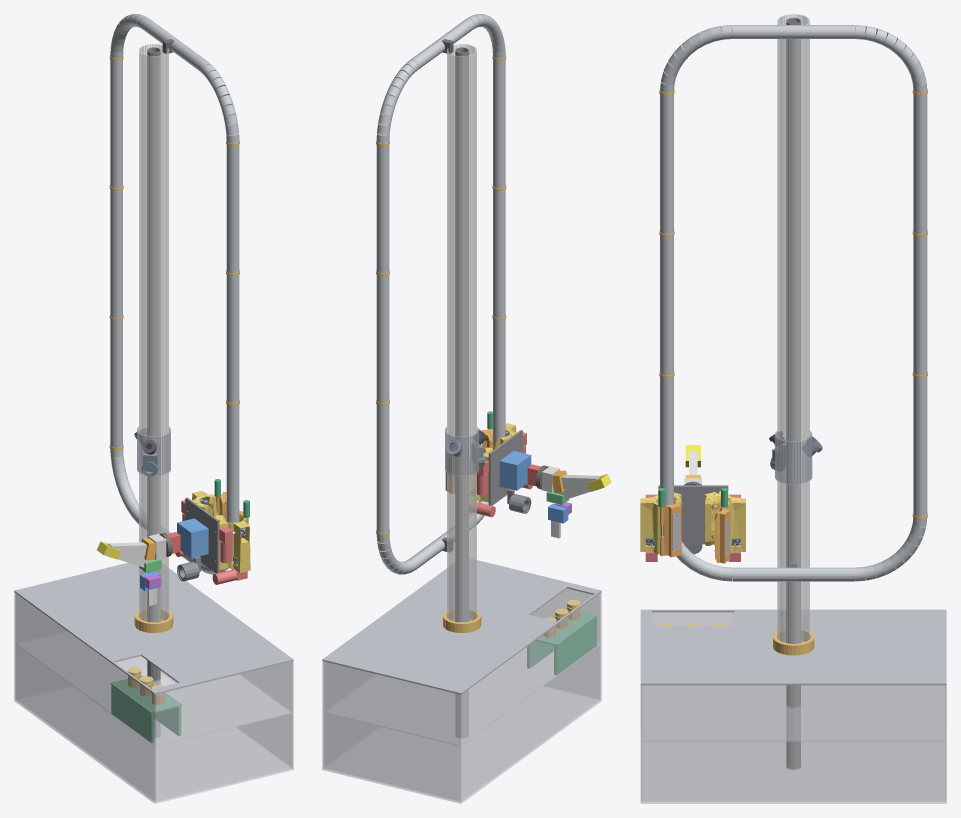
Rendered from sim-transplant-v1.glb.
3 renders of one model, left to right at view 1: azimuth 30°, elevation 25°; view 2: azimuth 150°, elevation 25°; view 3: azimuth 270°, elevation 25°, orthographic. The views are drawn at different scales.
Parts seen in each view (by area): view 1: 0, 1, 8, 5, 6, 2, 15, 31, 34, 32, 4, 16 (+1 smaller); view 2: 0, 1, 8, 5, 6, 2, 9, 31, 34, 32, 4, 16 (+1 smaller); view 3: 0, 1, 5, 8, 6, 15, 9, 18, 31, 4.
Part boxes in pixels (<box>): 0: <box>14,592,293,803</box>; 1: <box>14,562,293,694</box>; 8: <box>139,44,168,622</box>; 5: <box>110,14,239,574</box>; 6: <box>147,47,160,737</box>; 2: <box>110,675,181,742</box>; 15: <box>192,491,250,572</box>; 31: <box>185,497,219,573</box>; 34: <box>108,533,166,604</box>; 32: <box>177,518,208,558</box>; 4: <box>109,55,239,632</box>; 16: <box>175,500,247,584</box>; 0: <box>322,588,601,803</box>; 1: <box>322,558,601,694</box>; 8: <box>447,44,476,622</box>; 5: <box>376,14,505,574</box>; 6: <box>455,47,468,737</box>; 2: <box>527,607,597,675</box>; 9: <box>445,427,479,476</box>; 31: <box>488,430,522,505</box>; 34: <box>541,466,600,537</box>; 32: <box>499,451,531,490</box>; 4: <box>376,55,506,632</box>; 16: <box>469,432,532,517</box>; 0: <box>640,612,946,803</box>; 1: <box>640,609,946,685</box>; 5: <box>660,25,927,581</box>; 8: <box>777,14,809,643</box>; 6: <box>786,17,800,769</box>; 15: <box>640,491,745,554</box>; 9: <box>775,431,812,484</box>; 18: <box>660,502,730,563</box>; 31: <box>658,485,728,544</box>; 4: <box>659,89,927,655</box>.
Bounding box in the file's own units: 488 × 1900 × 701.
